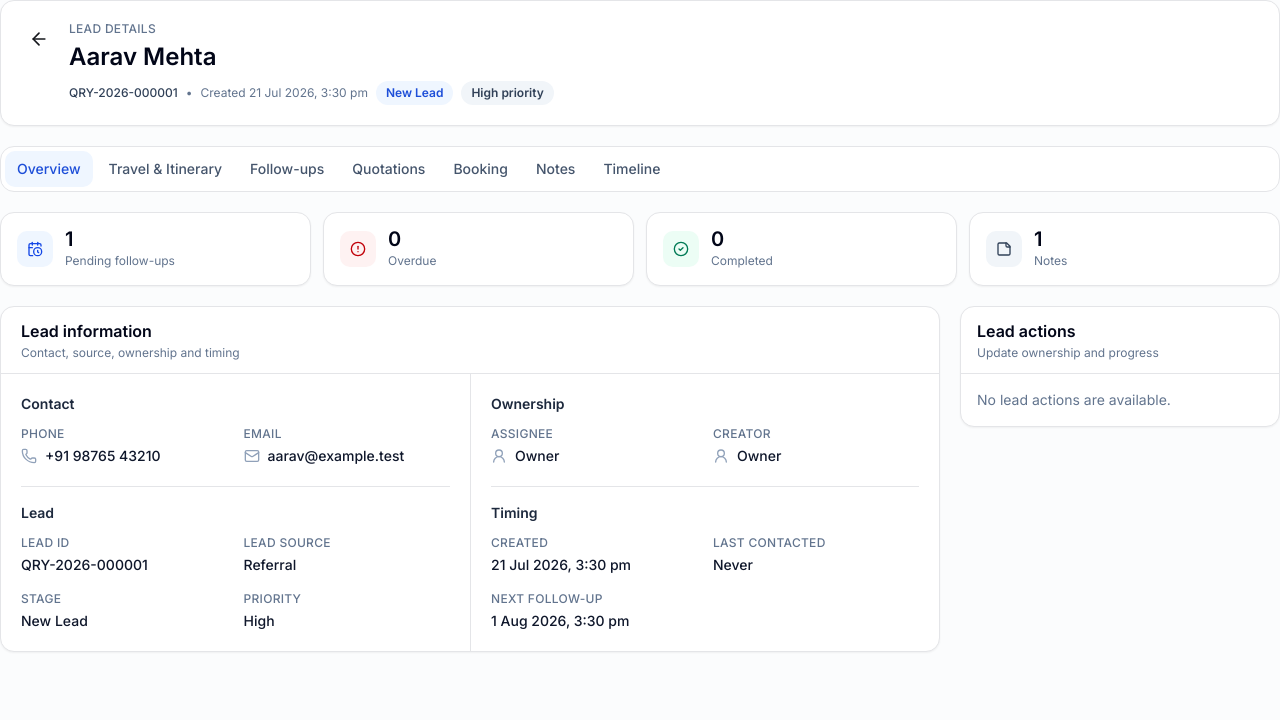
Scenario: Phase 6 lead pages › renders lead details, notes, follow-ups and timeline with permission-aware actions
Expected: the heading "Aarav Mehta" is shown, top-left (69, 42), bottom-right (216, 71)
Sectioned content now lives on its own tab.
Click the button "Notes" at (556, 169), box top-left (524, 151), bottom-right (587, 187)
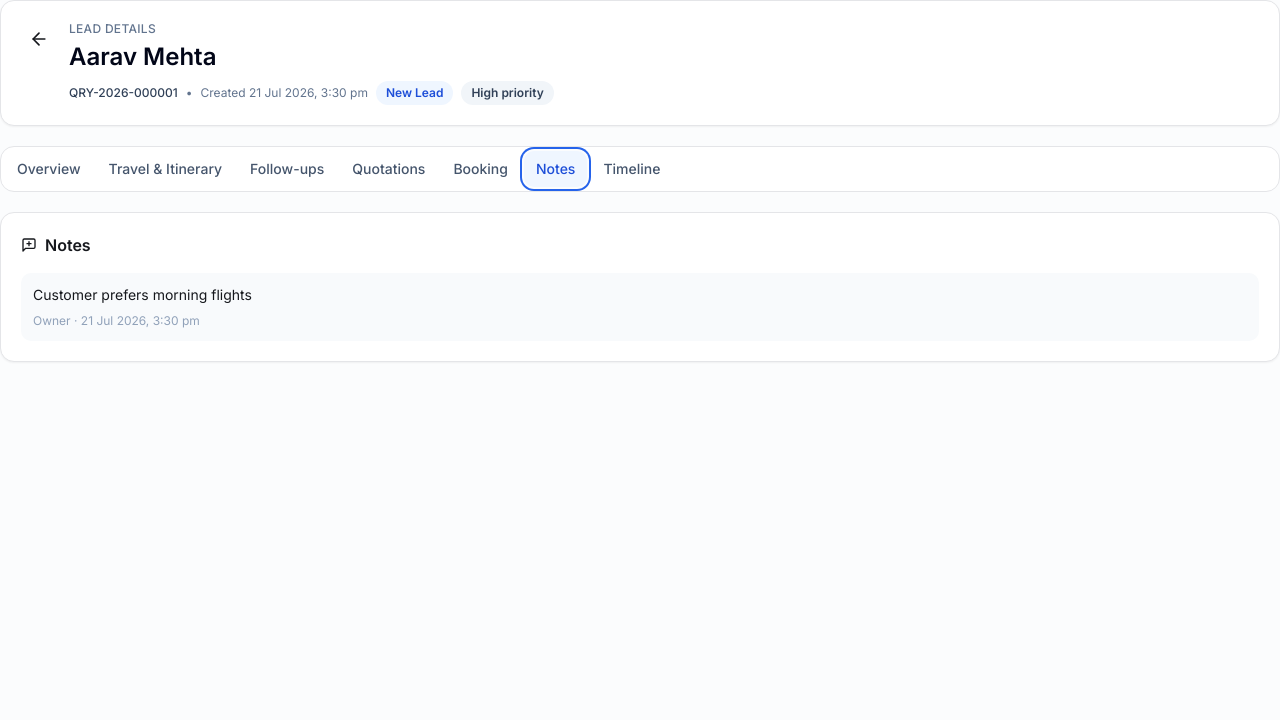
Result: the text "Customer prefers morning flights" is shown at top-left (33, 286), bottom-right (252, 303)
Click the button "Follow-ups" at (287, 169), box top-left (238, 151), bottom-right (336, 187)
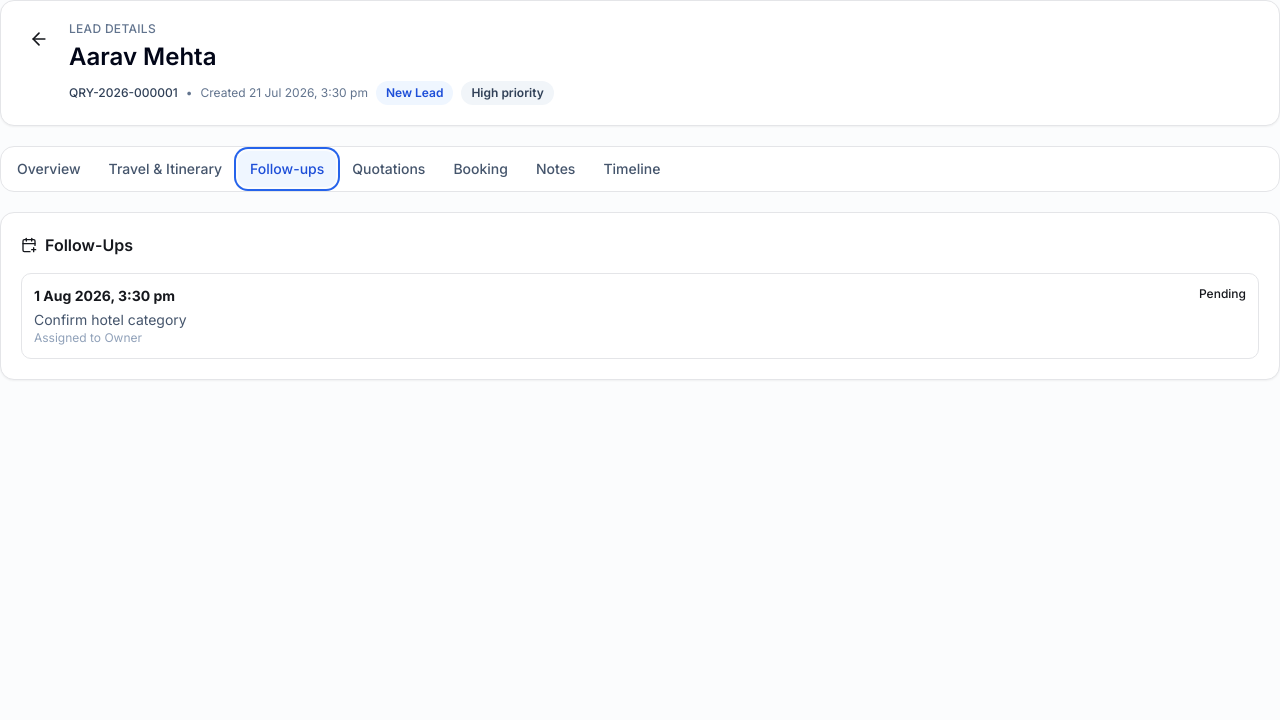
Result: the text "Confirm hotel category" is shown at top-left (34, 311), bottom-right (187, 328)
Click the button "Timeline" at (632, 169), box top-left (591, 151), bottom-right (672, 187)
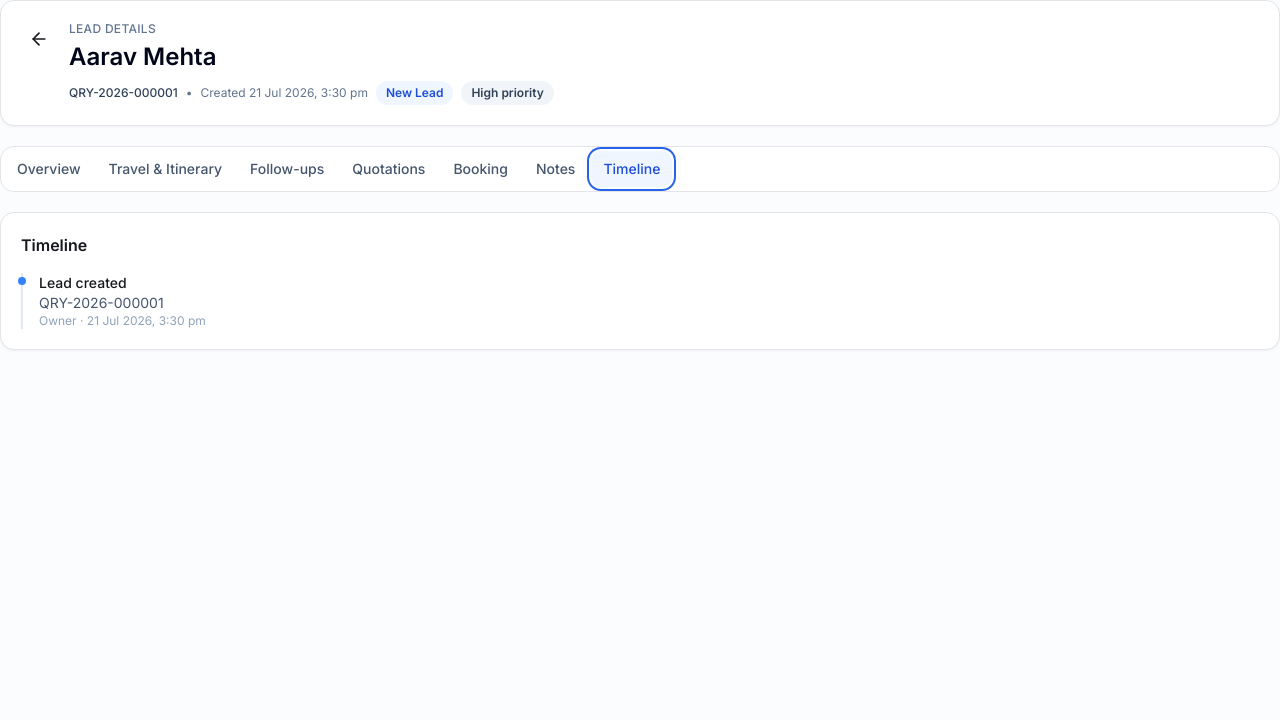
Result: the text "Lead created" is shown at top-left (39, 274), bottom-right (127, 291)
Click the button "Quotations" at (389, 169), box top-left (340, 151), bottom-right (437, 187)
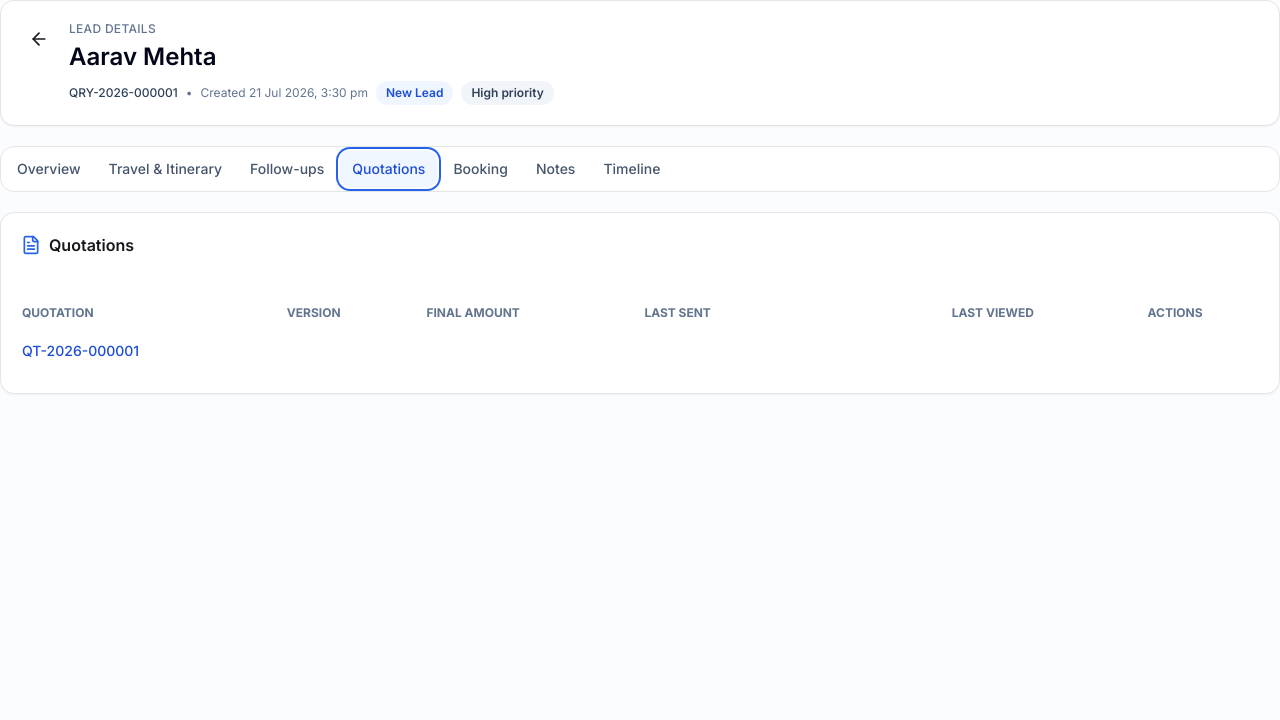
Result: the link "QT-2026-000001" is shown at top-left (22, 342), bottom-right (139, 359)
